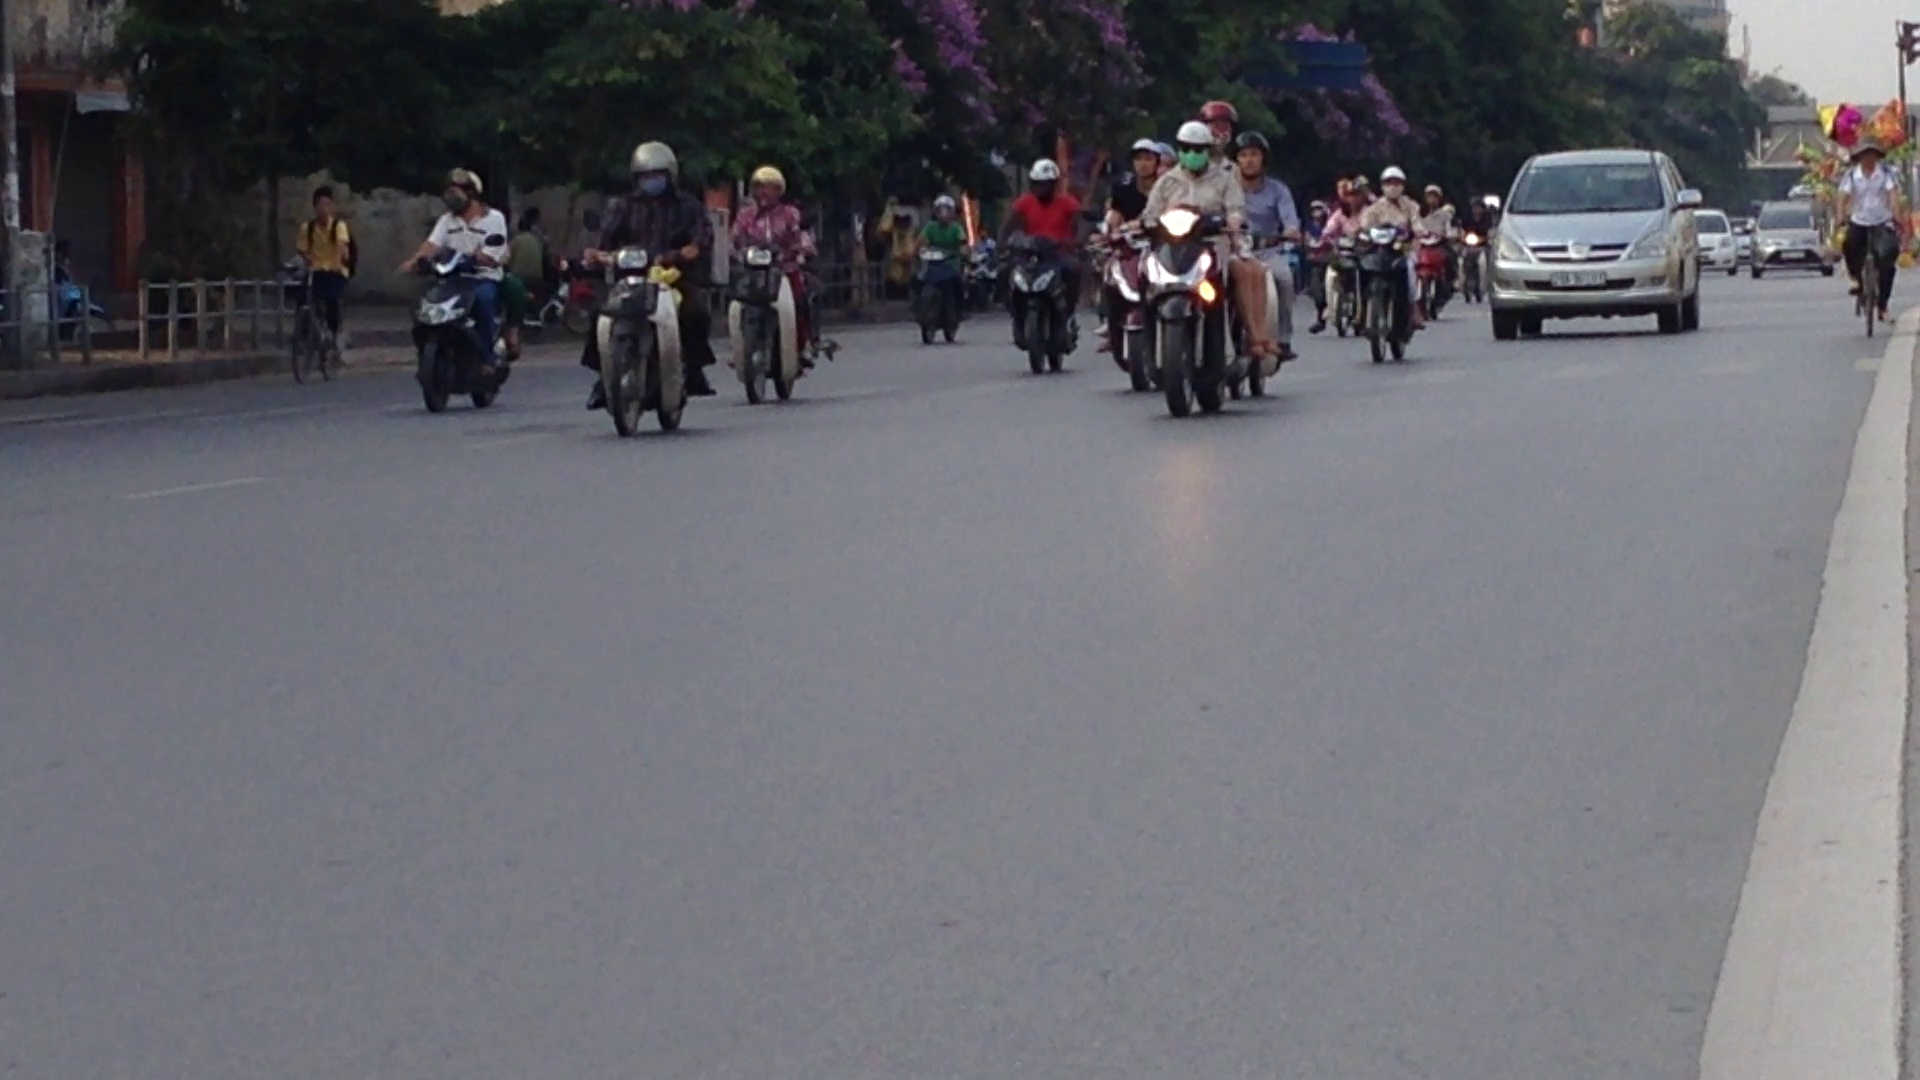vehicle-plate: (1545, 264, 1610, 291)
